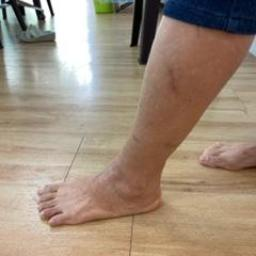Lateral View -Left Foot-: (22, 142, 177, 239)
